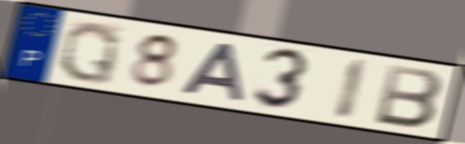3: (248, 47, 315, 113)
8: (127, 32, 178, 90)
A: (177, 40, 247, 104)
B: (372, 62, 446, 131)
I: (332, 56, 371, 123)
Q: (56, 19, 123, 87)
